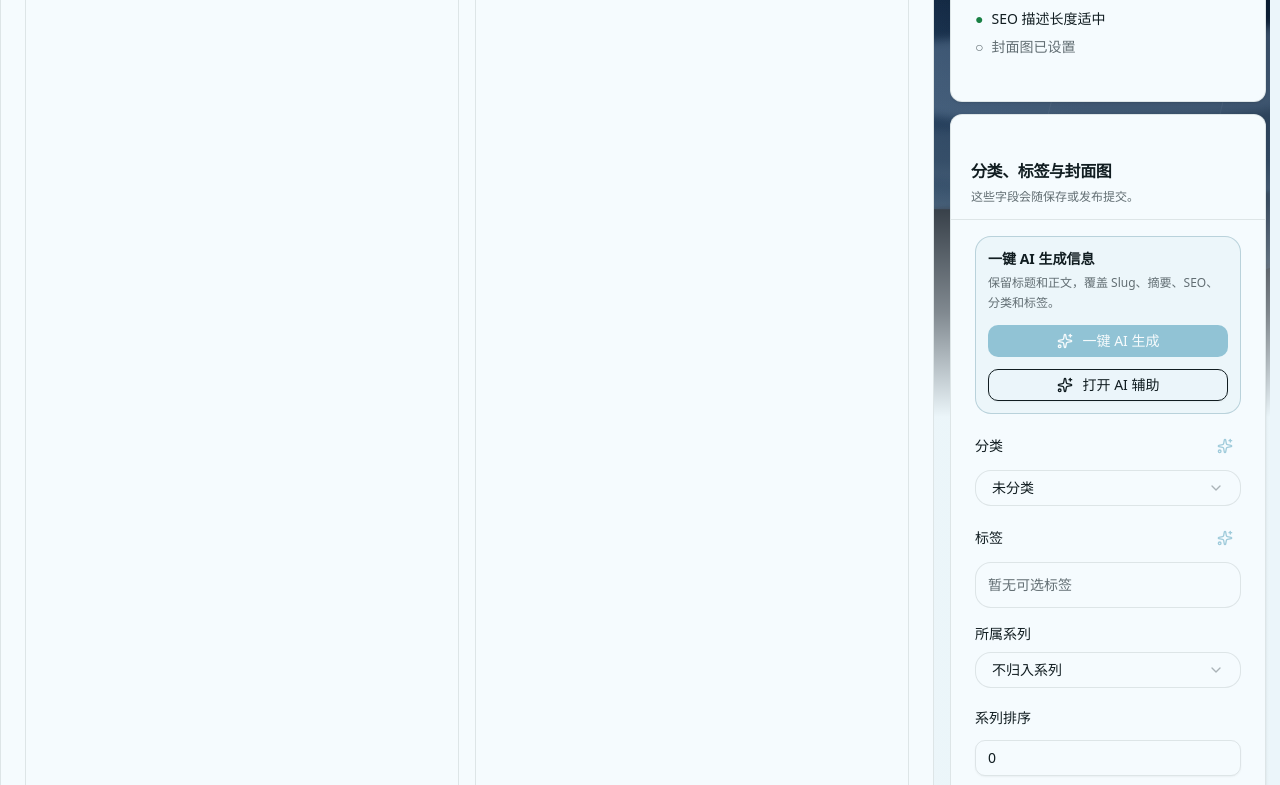
Test case: admin create post › renders new post workspace in admin style
(page scrolled)
Click the button "打开 AI 辅助". click: (1108, 385)
box: x1=988 y1=369 x2=1228 y2=401
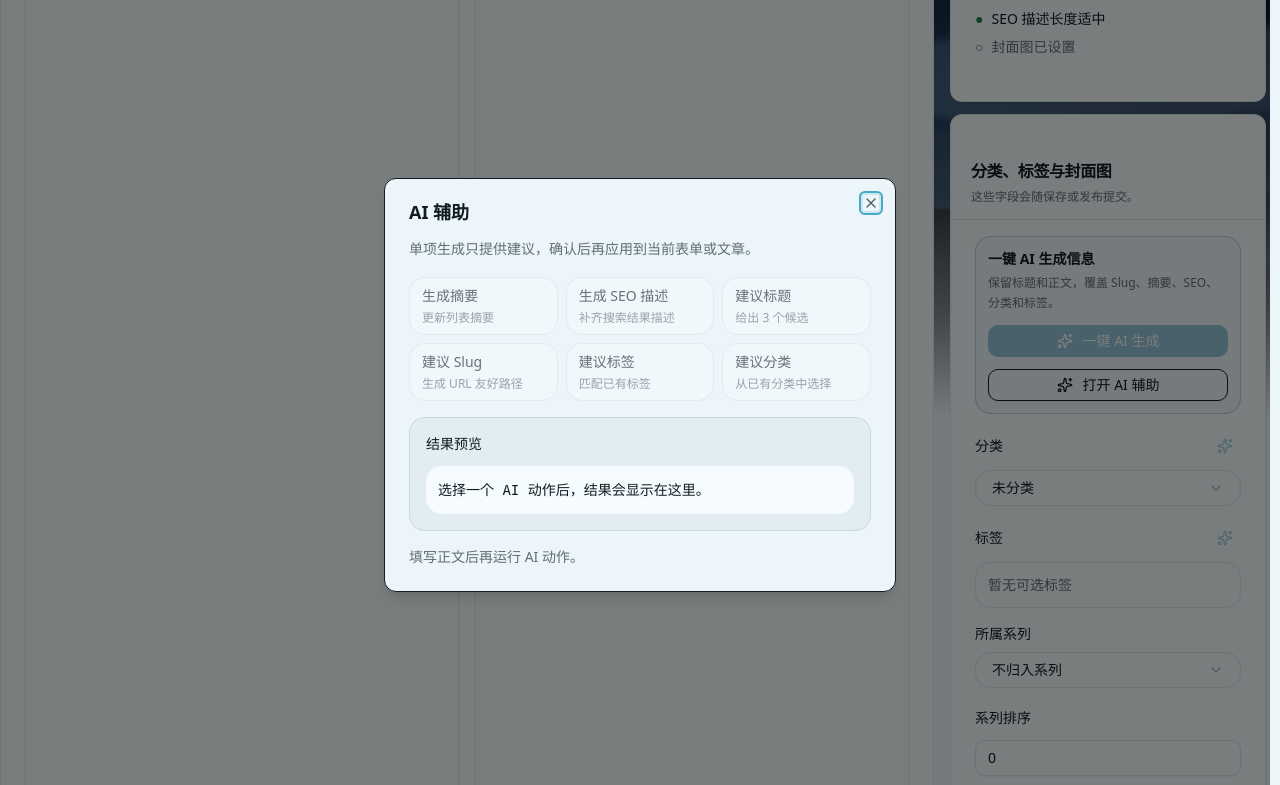
Result: the heading "AI 辅助" is shown at x1=409 y1=200 x2=469 y2=224
